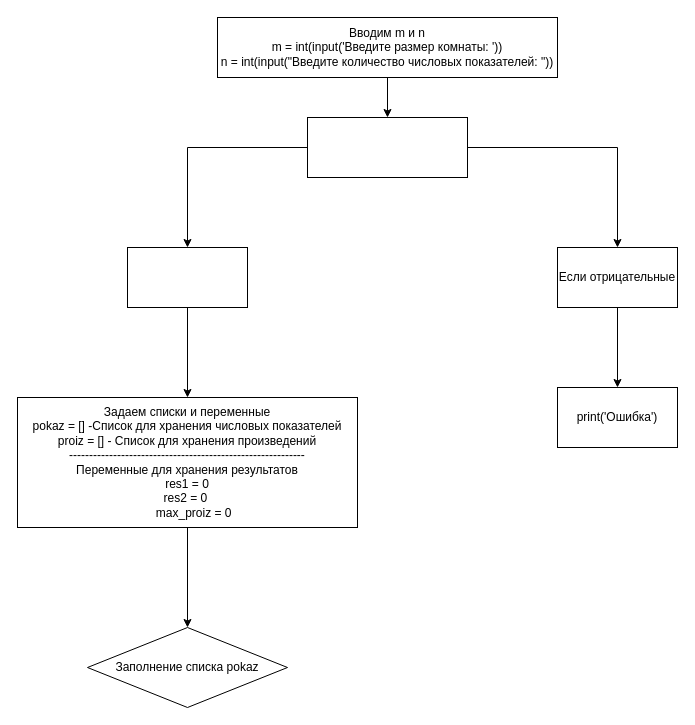
This 695x725 diagram has some shape labels left out. The shapes that lost their labels are listed below. From the top down, each one's centre as x and y in pixels, then its label:
At point 387,147: "Проверка на положительность чисел if n > 0 and m > 0:".
At point 187,277: "Если положительные".
